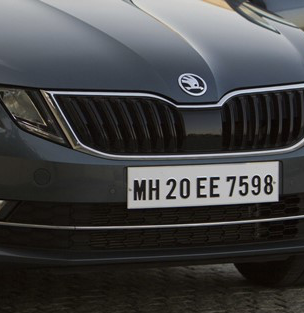MH20EE7598: (127, 160, 279, 208)
